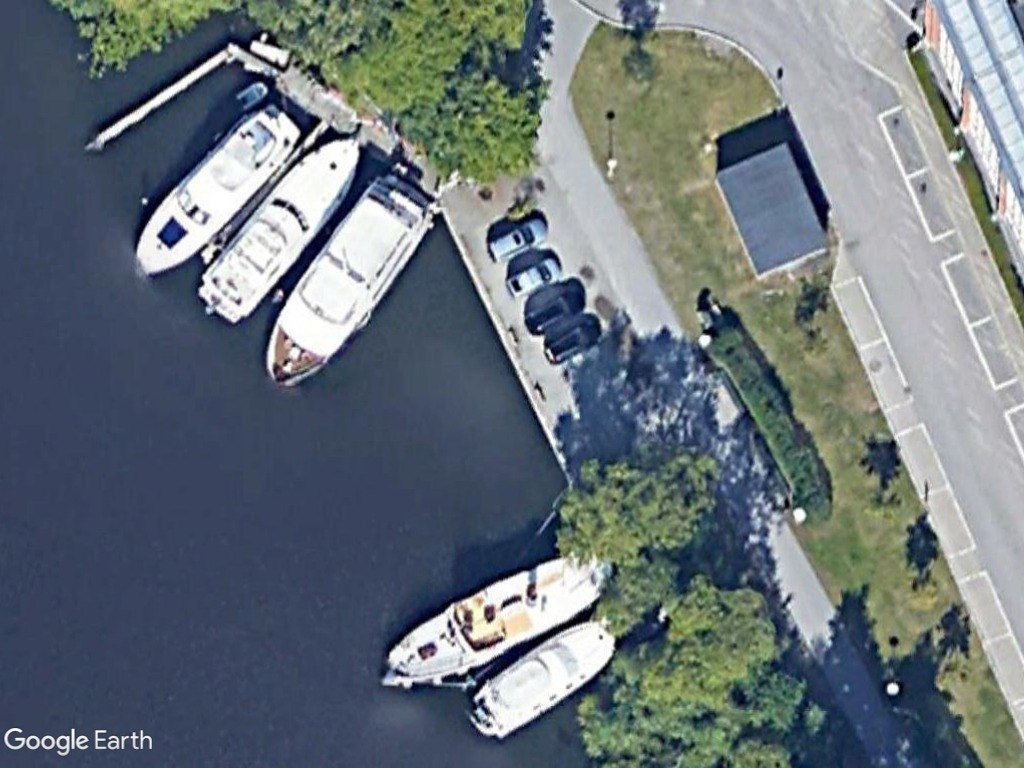boat: (256, 167, 447, 391), (377, 545, 625, 687), (195, 130, 371, 326), (123, 98, 302, 283), (467, 600, 623, 737)
car: (481, 212, 550, 273), (519, 282, 590, 339), (540, 309, 605, 369), (503, 250, 567, 300)
